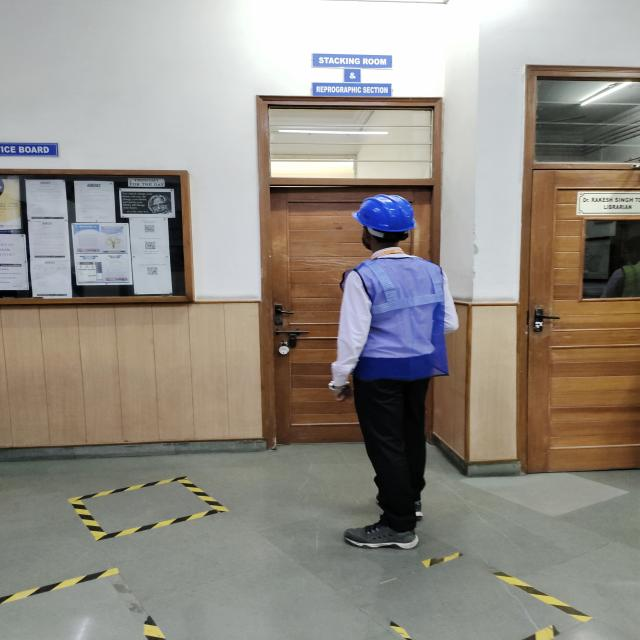safe: (337, 195, 452, 547)
